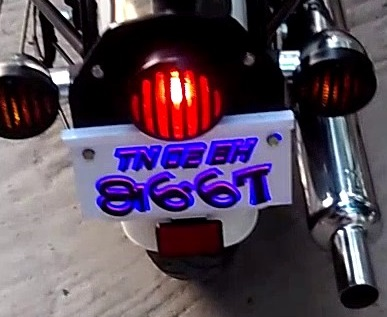number_plate: (62, 126, 291, 223)
